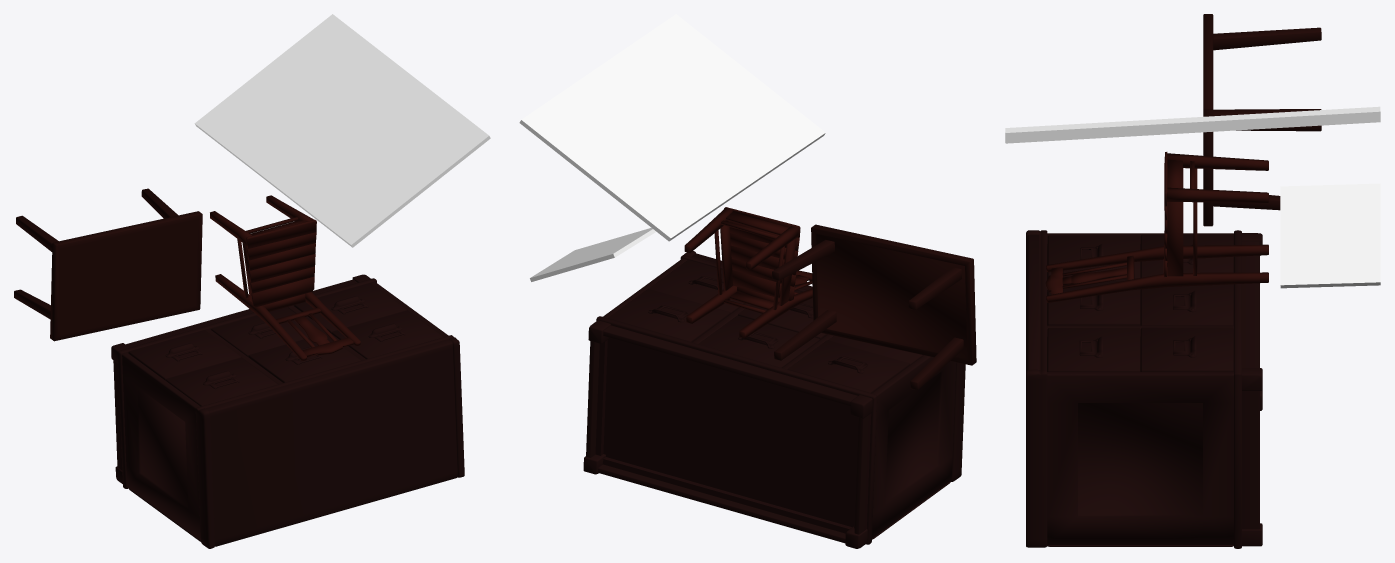
The picture shows the model from 3 angles, left to right: view 1: azimuth 30°, elevation 25°; view 2: azimuth 150°, elevation 25°; view 3: azimuth 270°, elevation 25°; orthographic projection. The views are drawn at different scales.
Parts seen in each view (by area): view 1: diffuse_cabinet_01, glass_door_01, diffuse_table_02, diffuse_chair_03; view 2: diffuse_cabinet_01, glass_door_01, diffuse_table_02, diffuse_chair_03, glass_partition_02; view 3: diffuse_cabinet_01, diffuse_chair_03, glass_partition_02, glass_door_01, diffuse_table_02.
Boxes of the visible parts, x1,y1,x2,y2 form: diffuse_cabinet_01: (111, 274, 464, 548); glass_door_01: (194, 14, 490, 247); diffuse_table_02: (14, 188, 202, 341); diffuse_chair_03: (210, 195, 360, 360); diffuse_cabinet_01: (583, 251, 965, 548); glass_door_01: (519, 14, 825, 241); diffuse_table_02: (772, 224, 976, 389); diffuse_chair_03: (684, 207, 812, 338); glass_partition_02: (530, 228, 656, 281); diffuse_cabinet_01: (1026, 230, 1262, 548); diffuse_chair_03: (1045, 152, 1268, 302); glass_partition_02: (1280, 183, 1380, 288); glass_door_01: (1005, 106, 1380, 143); diffuse_table_02: (1203, 14, 1321, 226).
Size of the model in its own units: 207 by 203 by 150.
